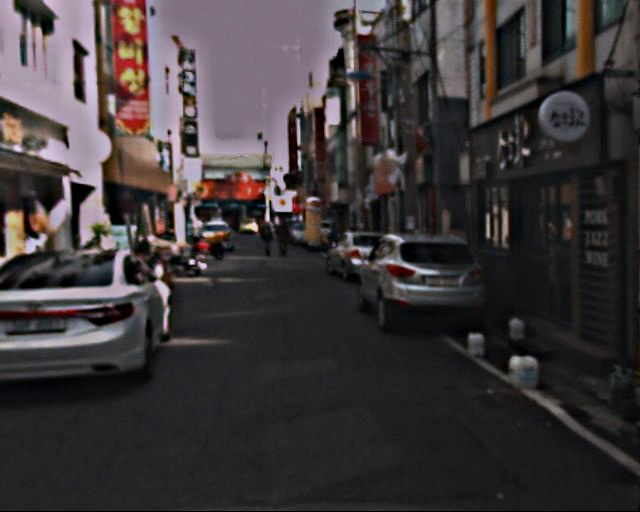person: (257, 218, 278, 261), (275, 215, 293, 259)
